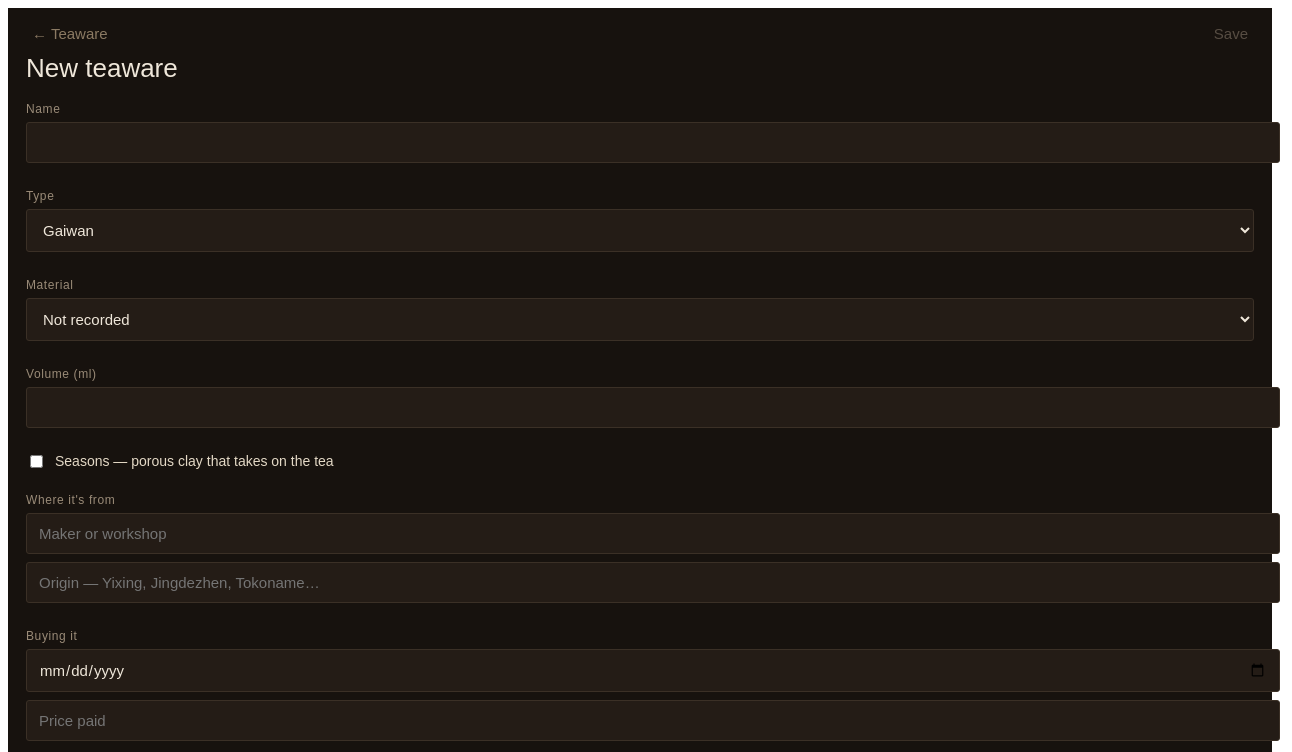
Test: NewWarePage › shows a refused save and keeps the typing
The image size is (1292, 752).
Type "x" into the field with test id "ware-field-name". click: x=653, y=142
box: x1=26 y1=122 x2=1280 y2=163
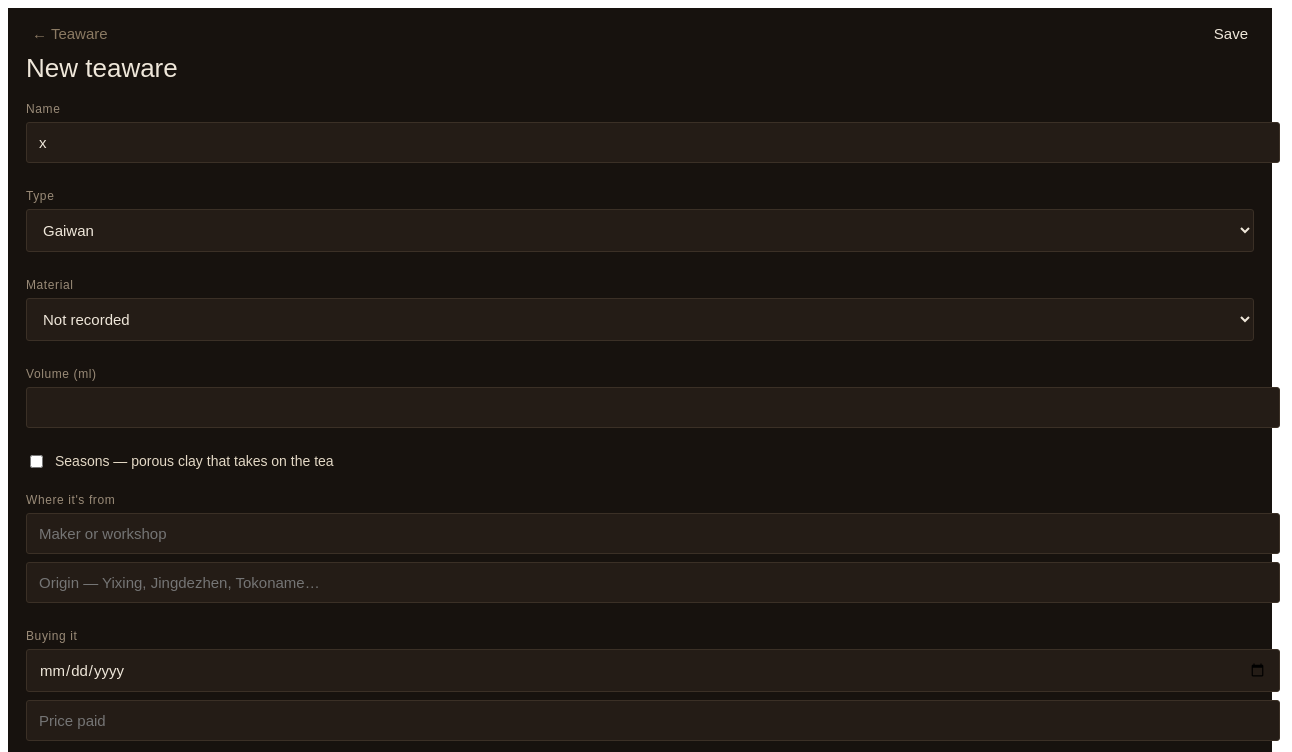
Click the button with test id "ware-new-save". click: x=1231, y=34
box: x1=1208 y1=24 x2=1254 y2=43
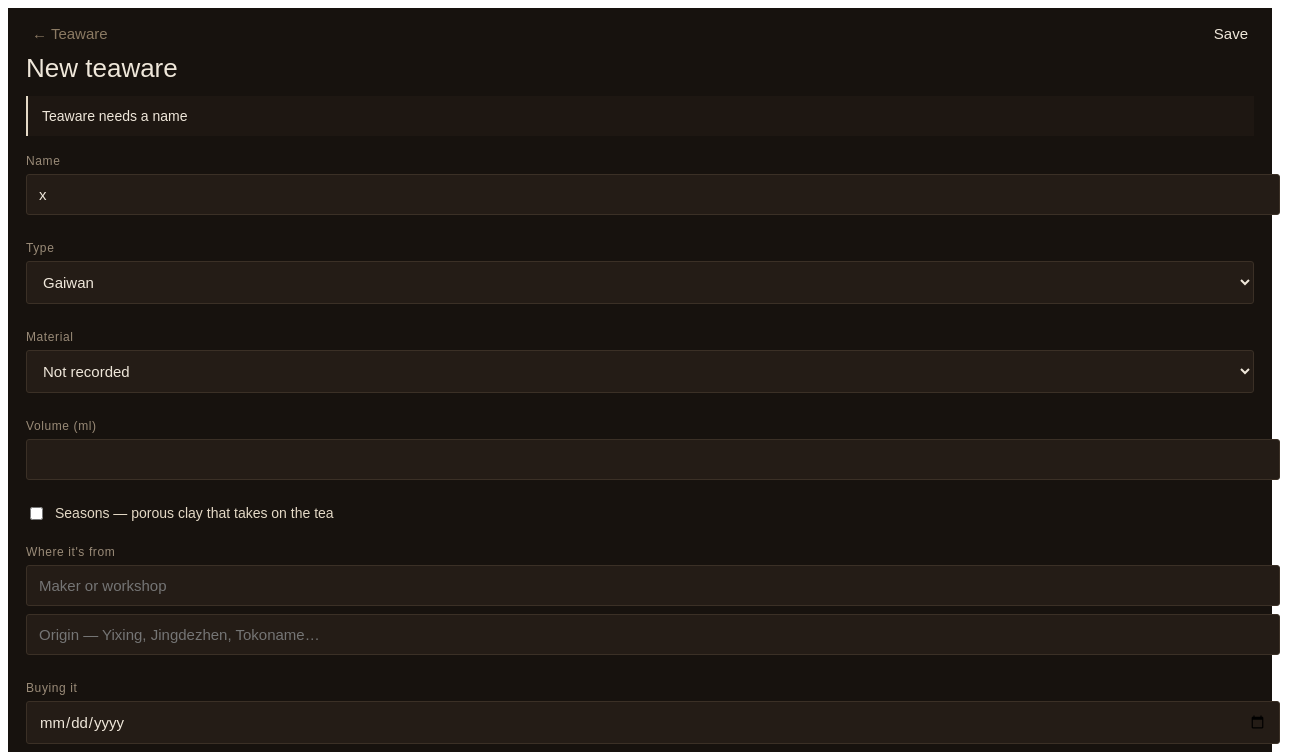
Check: the text with test id "ware-new-error" reads "Teaware needs a name", box x1=42 y1=108 x2=188 y2=124
